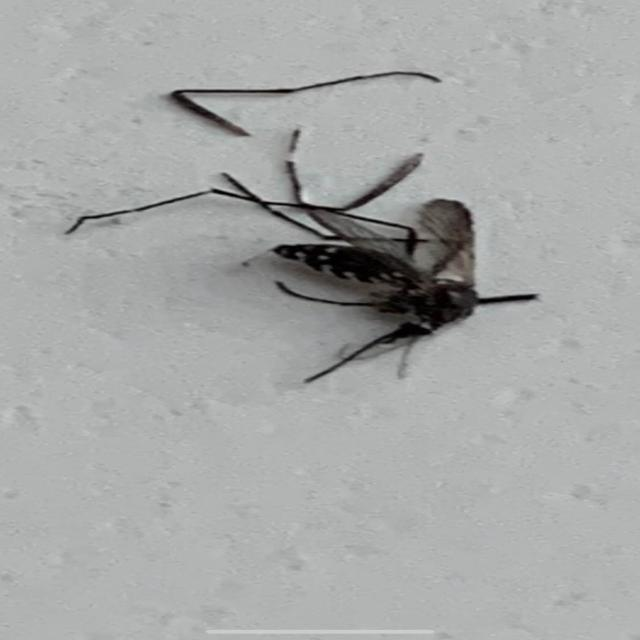albopictus: (76, 68, 561, 404)
